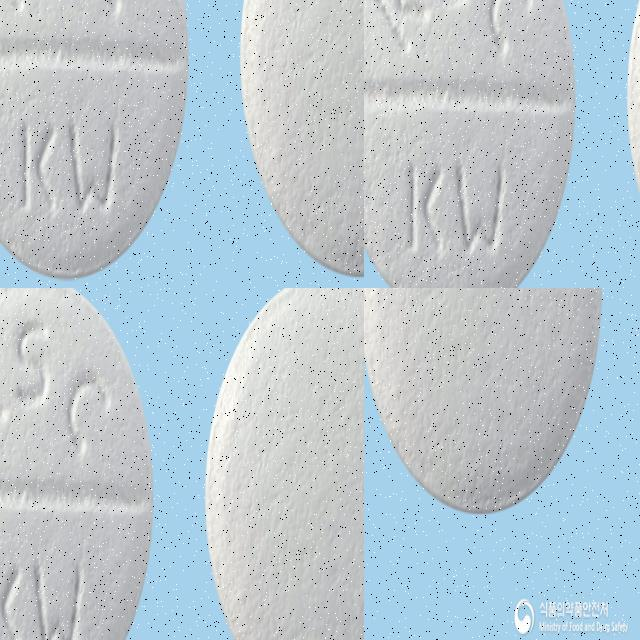K-Sacin: (205, 288, 364, 640), (0, 288, 154, 640), (364, 288, 602, 512)
Levoflcin: (364, 0, 580, 288)
Mabid -500mg: (0, 28, 235, 278)
